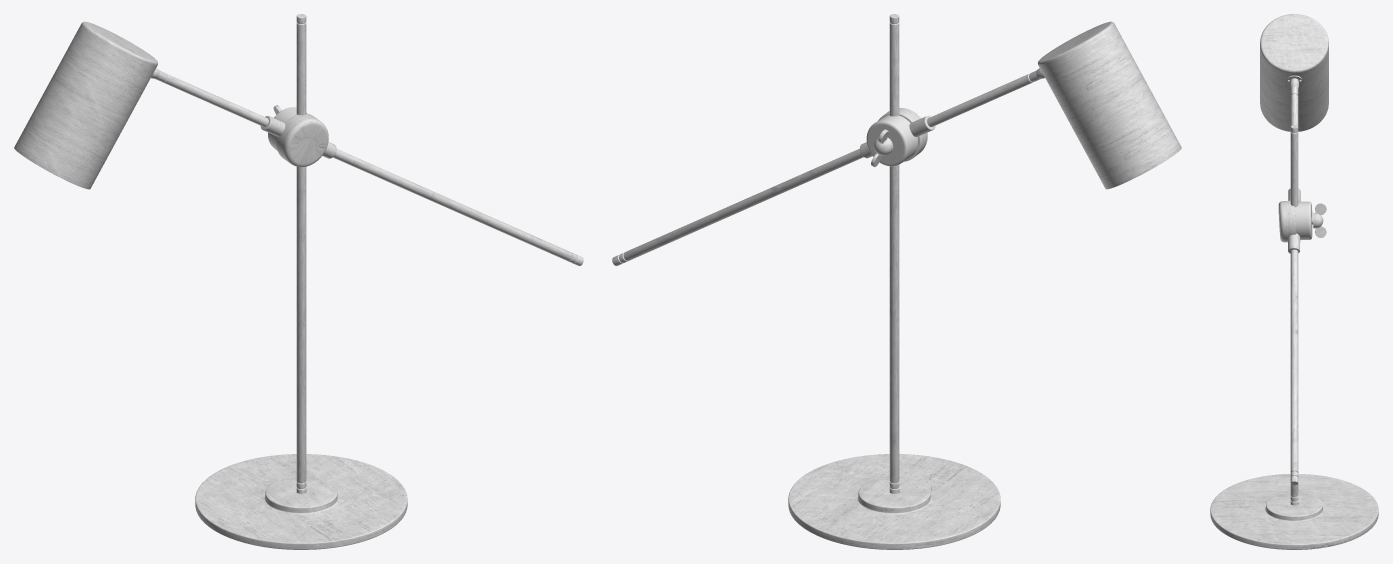
File: table_lamp.glb
3 views of the same model, side by side, from view 1: azimuth 30°, elevation 25°; view 2: azimuth 150°, elevation 25°; view 3: azimuth 270°, elevation 25° (orthographic). The views are drawn at different scales.
Visible parts, largest first — view 1: Table-Lamp; view 2: Table-Lamp; view 3: Table-Lamp.
Boxes of the visible parts, left/top/right/bottom form: Table-Lamp: left=14, top=14, right=583, bottom=549; Table-Lamp: left=612, top=14, right=1181, bottom=549; Table-Lamp: left=1210, top=14, right=1378, bottom=549.
Size of the model in its own units: 13.23 by 11.88 by 4.33.
1 material, 1 textured.
